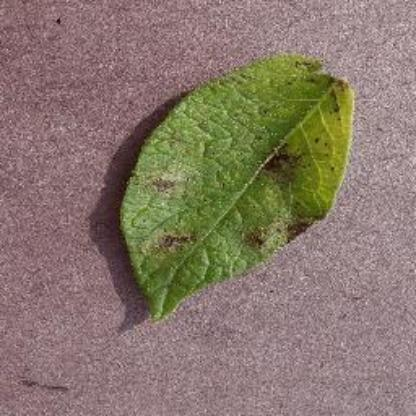Late-Blight: (113, 41, 361, 321)
